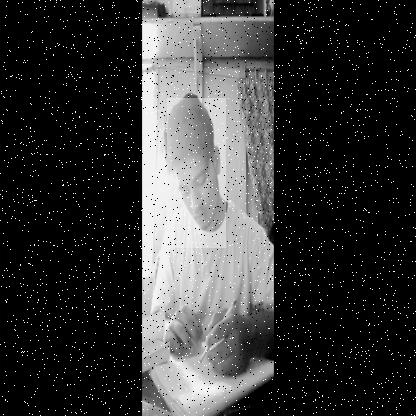Distracted: (167, 98, 226, 248)
